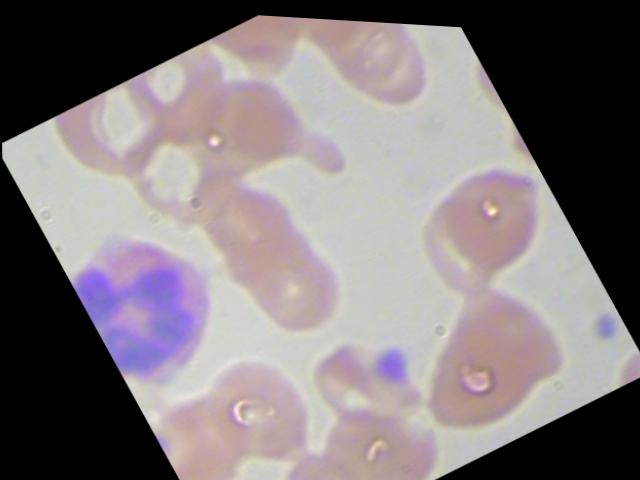Platelets: (366, 326, 421, 385), (583, 293, 632, 349)
Red Blood Cells: (381, 247, 597, 462), (104, 90, 255, 249), (420, 131, 571, 286), (218, 201, 367, 356), (189, 329, 339, 479), (47, 62, 196, 207), (121, 30, 257, 161), (306, 363, 456, 479), (264, 460, 381, 479)
White Blood Cells: (54, 191, 251, 412)
